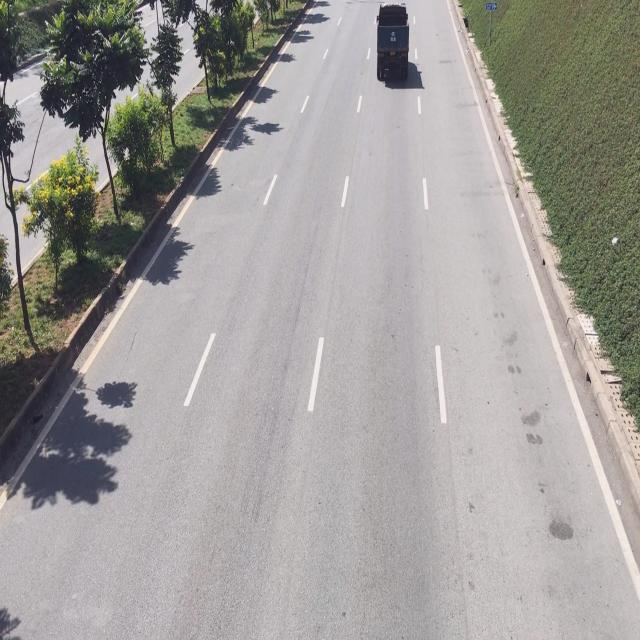truck: (373, 2, 409, 87)
